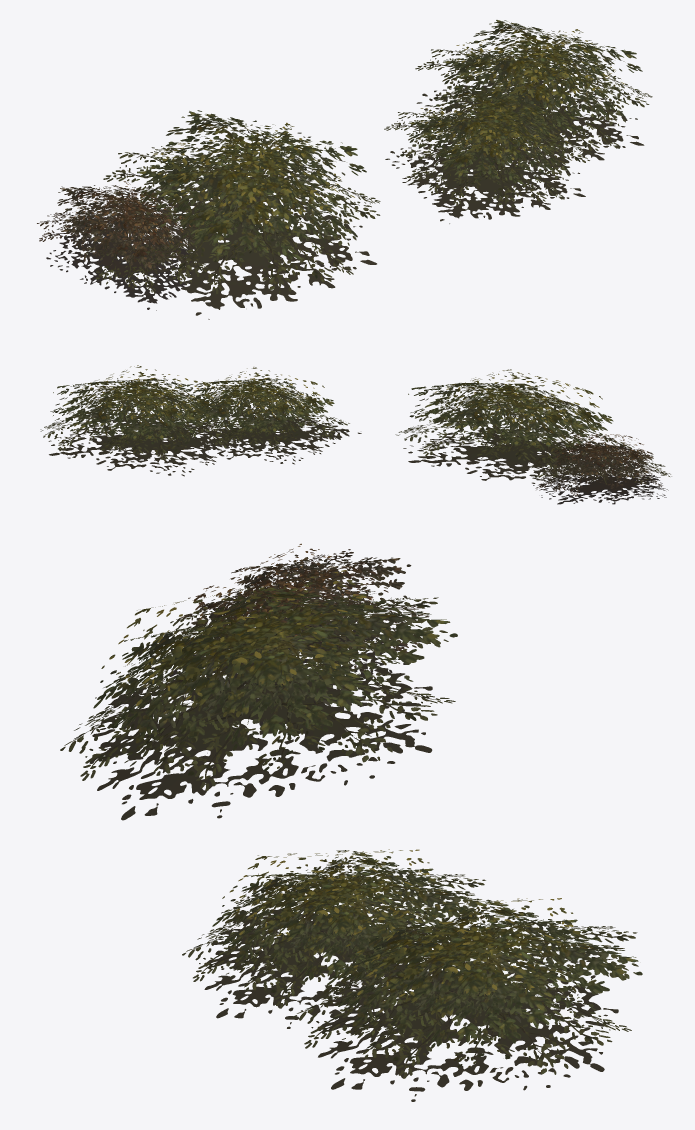
File: plants_bushes07.fbx
3 renders of one model, top to bottom at view 1: azimuth 30°, elevation 25°; view 2: azimuth 150°, elevation 25°; view 3: azimuth 270°, elevation 25°, orthographic. The views are drawn at different scales.
Visible parts, largest first — view 1: plants_bushes07-0; view 2: plants_bushes07-0; view 3: plants_bushes07-0.
Part boxes in pixels (<box>): plants_bushes07-0: <box>37,20,652,319</box>; plants_bushes07-0: <box>40,365,671,504</box>; plants_bushes07-0: <box>60,543,642,1101</box>.
Size of the model in its own units: 13.27 by 2.25 by 7.36.
